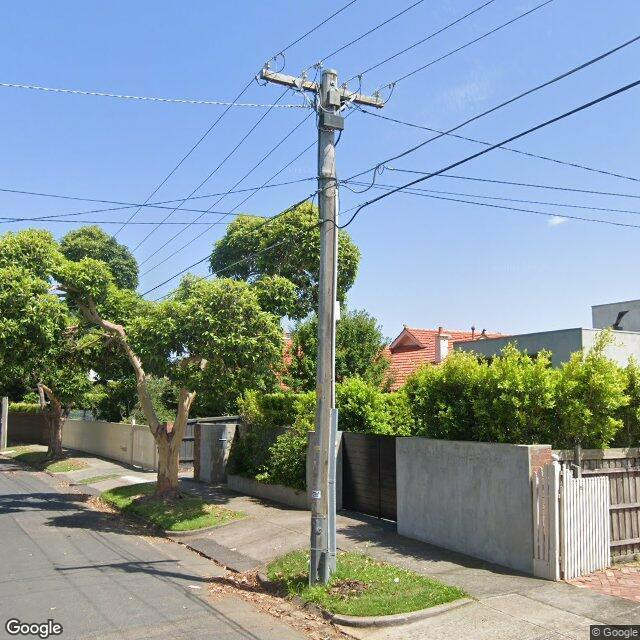crossarm: (260, 68, 384, 108)
timber-pole: (316, 69, 337, 584)
